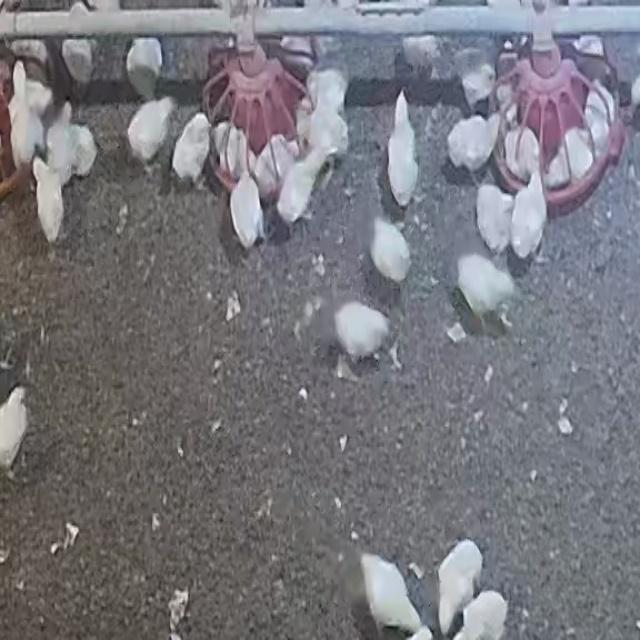chicken: (358, 552, 422, 636), (436, 539, 484, 633), (456, 251, 516, 318), (277, 144, 326, 225), (386, 90, 419, 208), (331, 299, 390, 363), (125, 95, 176, 167), (510, 167, 547, 259), (370, 212, 412, 288), (299, 52, 353, 109), (229, 165, 264, 250), (171, 112, 211, 184), (32, 156, 65, 242), (446, 115, 494, 173), (2, 56, 48, 116), (543, 128, 587, 190), (44, 100, 76, 183), (454, 591, 508, 640), (0, 384, 30, 472), (214, 116, 256, 178), (476, 182, 512, 253), (125, 37, 164, 101), (309, 100, 349, 160), (584, 78, 616, 148), (255, 137, 295, 185), (458, 61, 496, 110), (504, 126, 538, 180), (9, 110, 44, 160), (61, 37, 94, 88), (69, 123, 98, 176), (402, 34, 437, 74), (10, 38, 50, 70)
